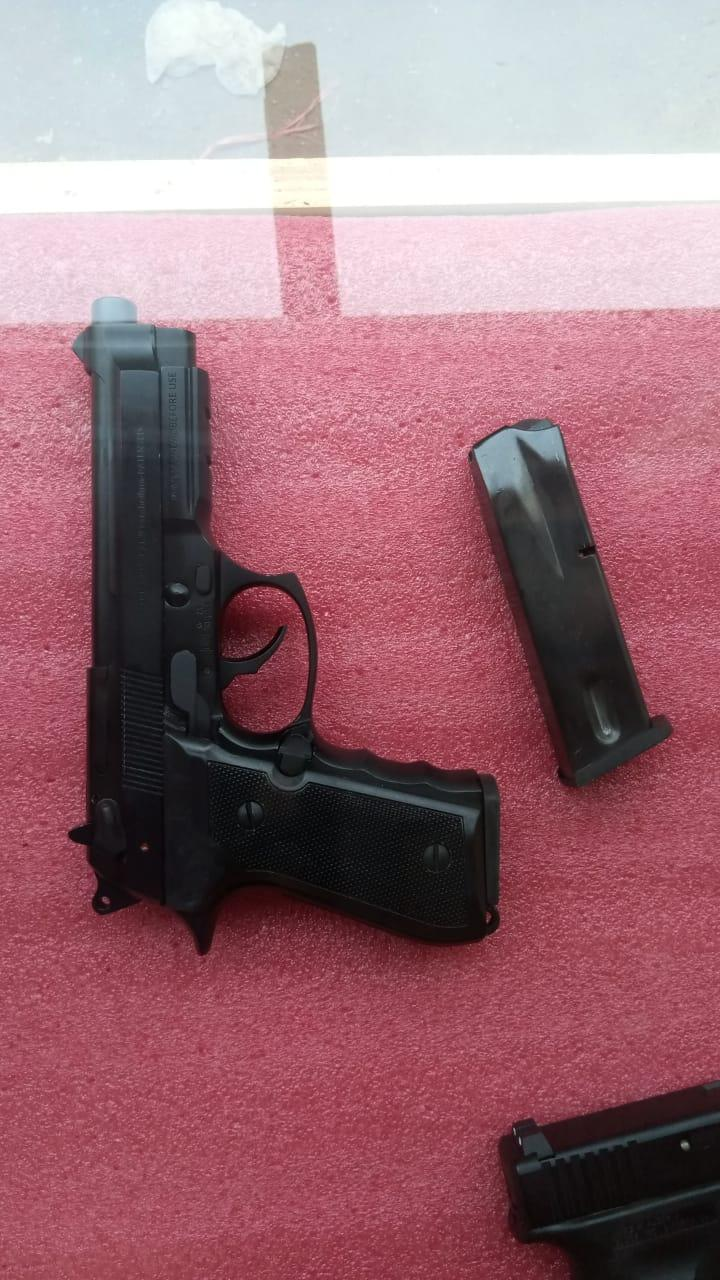weapon: (69, 294, 503, 954)
